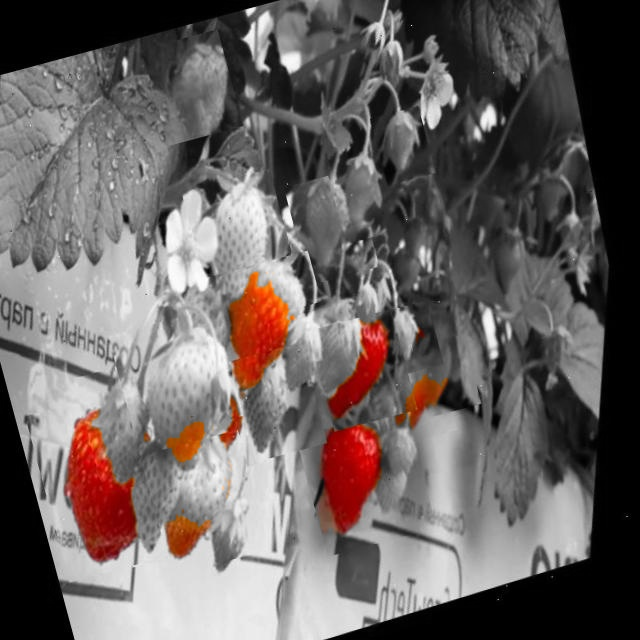ripe: (26, 384, 188, 582), (295, 412, 420, 556), (308, 308, 418, 432)
unripe: (108, 304, 266, 492), (192, 250, 344, 419), (98, 416, 225, 568), (140, 429, 270, 575), (181, 168, 304, 321), (72, 356, 186, 494), (285, 290, 395, 418), (142, 28, 244, 146), (229, 342, 327, 461), (284, 168, 379, 284), (369, 344, 456, 446), (267, 305, 353, 401), (324, 146, 405, 244), (408, 334, 482, 418), (374, 300, 444, 378), (370, 105, 436, 185), (368, 454, 432, 526), (380, 418, 440, 484)
